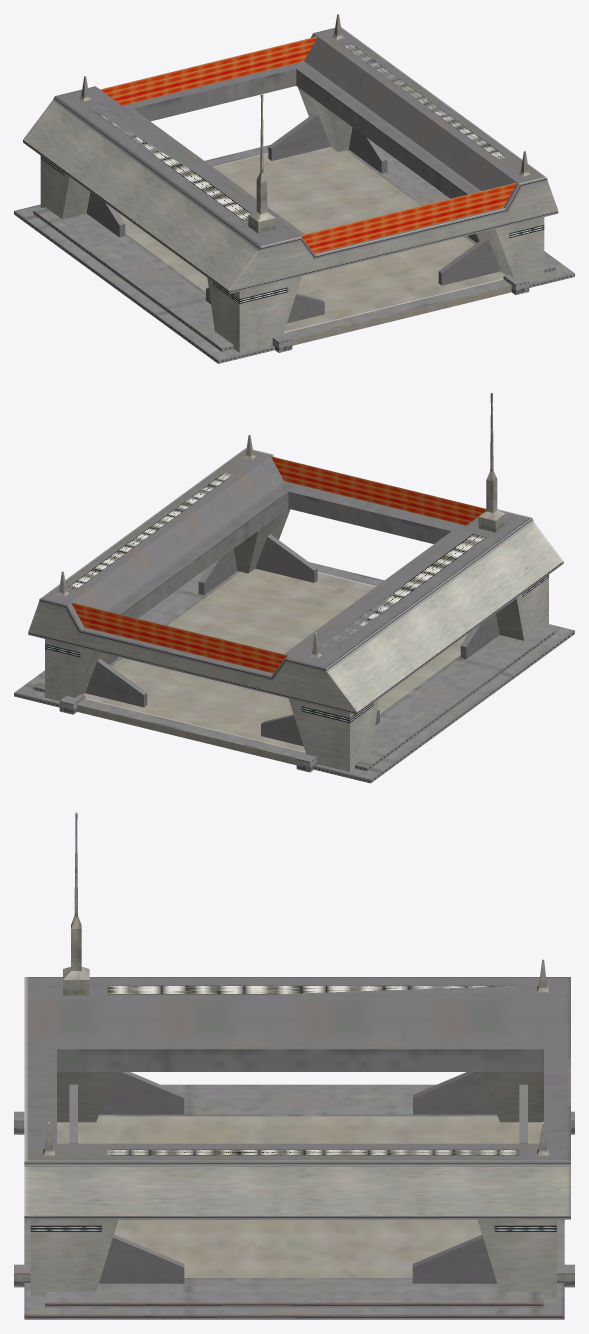
Rendered from mun_all_shuttleport_s01_l2.fbx.
3 views of the same model, one above another, from view 1: azimuth 30°, elevation 25°; view 2: azimuth 150°, elevation 25°; view 3: azimuth 270°, elevation 25° (orthographic). The views are drawn at different scales.
Parts seen in each view (by area): view 1: mesh_node; view 2: mesh_node; view 3: mesh_node.
Boxes of the visible parts, box(x1,y1,x2,y2) form: mesh_node: box(14, 14, 574, 363); mesh_node: box(14, 392, 574, 783); mesh_node: box(14, 812, 574, 1319).
Size of the model in its own units: 31.47 by 20.21 by 32.4.
